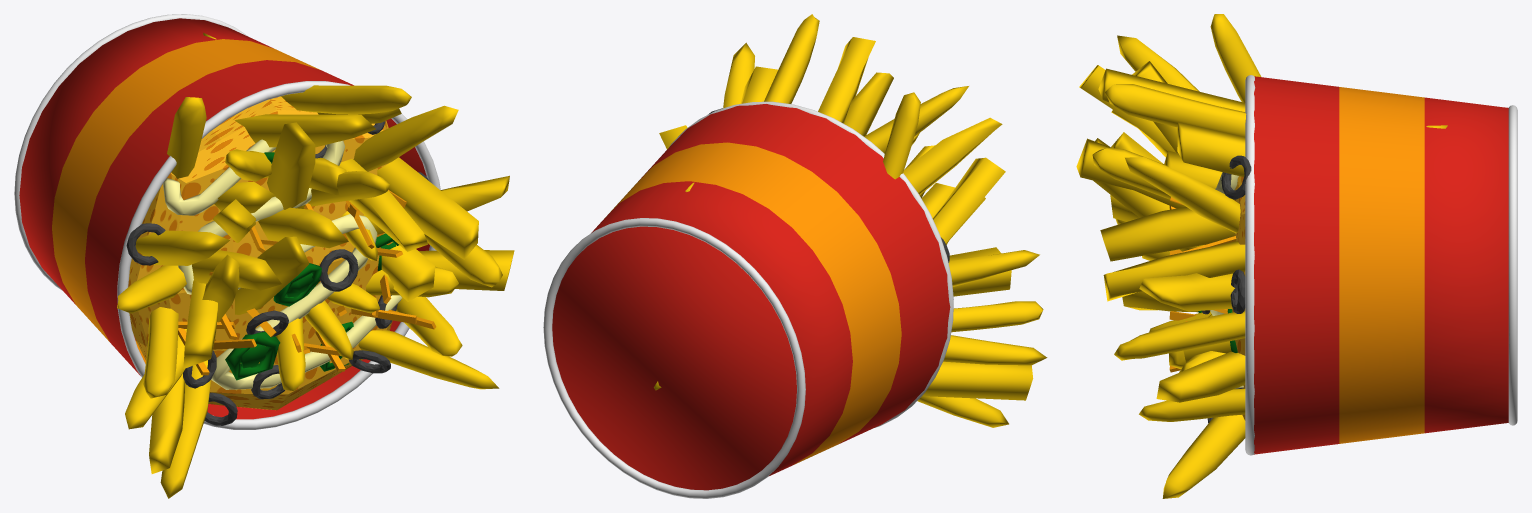
Rendered from Load Fries.fbx.
3 renders of one model, left to right at view 1: azimuth 30°, elevation 25°; view 2: azimuth 150°, elevation 25°; view 3: azimuth 270°, elevation 25°, orthographic. The views are drawn at different scales.
Parts seen in each view (by area): view 1: Fries, Bucket, Cube, Myo, Olives, Crushed Chease, Gr; view 2: Bucket, Fries; view 3: Bucket, Fries, Olives, Cube, Crushed Chease.
Boxes of the visible parts, bbox=[...] form: Fries: bbox=[117, 32, 514, 498]; Bucket: bbox=[14, 14, 440, 429]; Cube: bbox=[128, 96, 392, 410]; Myo: bbox=[163, 139, 402, 389]; Olives: bbox=[126, 121, 429, 425]; Crushed Chease: bbox=[178, 189, 436, 375]; Gr: bbox=[225, 152, 398, 380]; Bucket: bbox=[543, 101, 953, 498]; Fries: bbox=[654, 14, 1047, 427]; Bucket: bbox=[1245, 75, 1517, 455]; Fries: bbox=[1076, 14, 1447, 498]; Olives: bbox=[1202, 155, 1251, 423]; Cube: bbox=[1227, 176, 1245, 420]; Crushed Chease: bbox=[1169, 197, 1236, 372].
Size of the model in its own units: 0.3257 by 0.2845 by 0.2996.
Materials: 2 (2 with a texture image).
